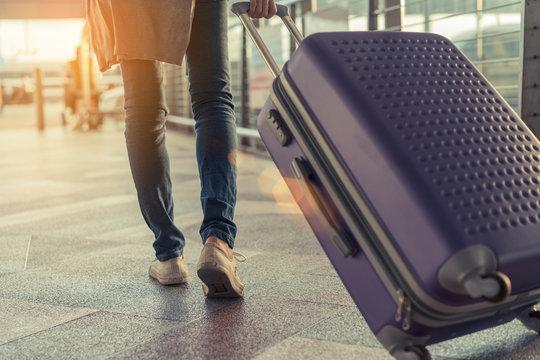person: (82, 1, 282, 307)
suitcase: (250, 24, 540, 360)
